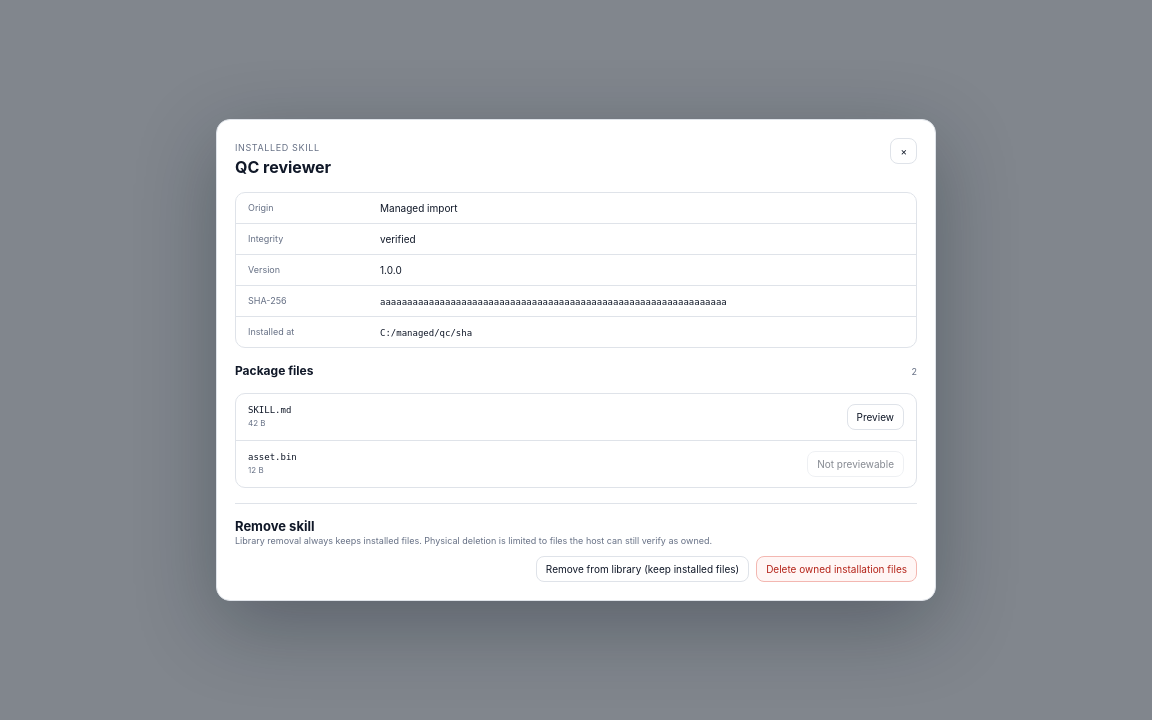
it: SkillDetails › keeps details open and blocks duplicate preview reads after a failure
The width and height of the screenshot is (1152, 720).
Expected: the heading "QC reviewer" is shown, [235,157,331,177]
Step 1. Click the button "Preview" → (875,417), box [846,404,904,430]
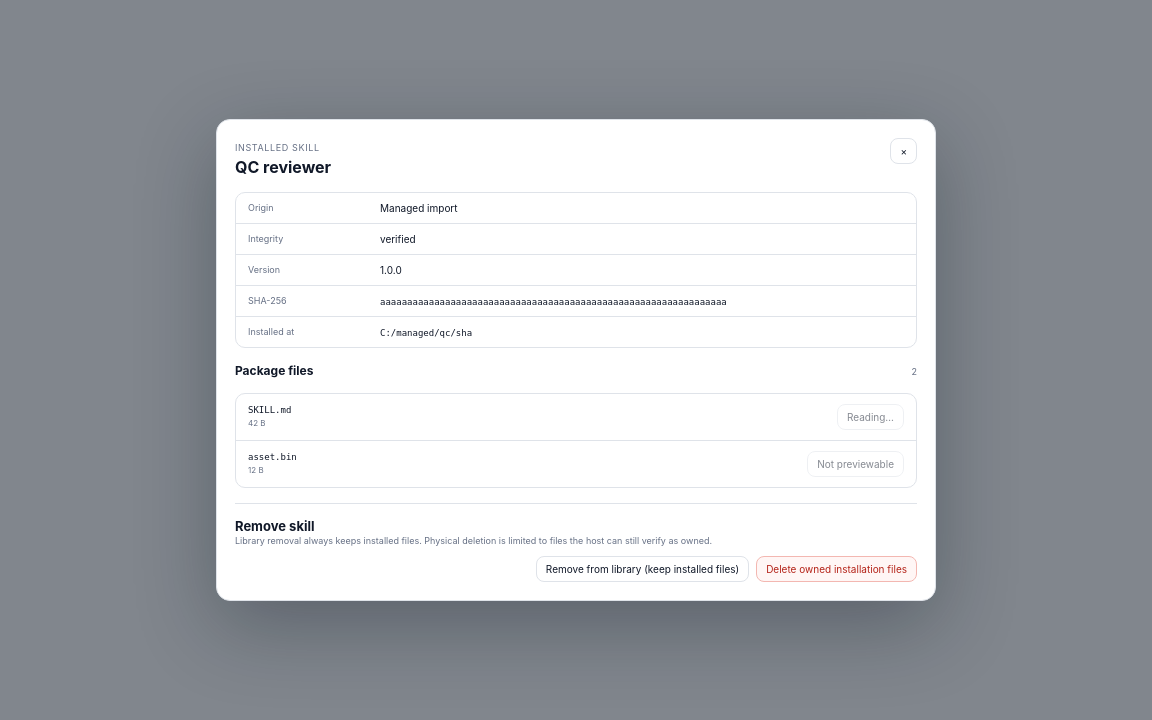
Step 2. Click the button named "Preview" → (870,417), box [837,404,904,430]
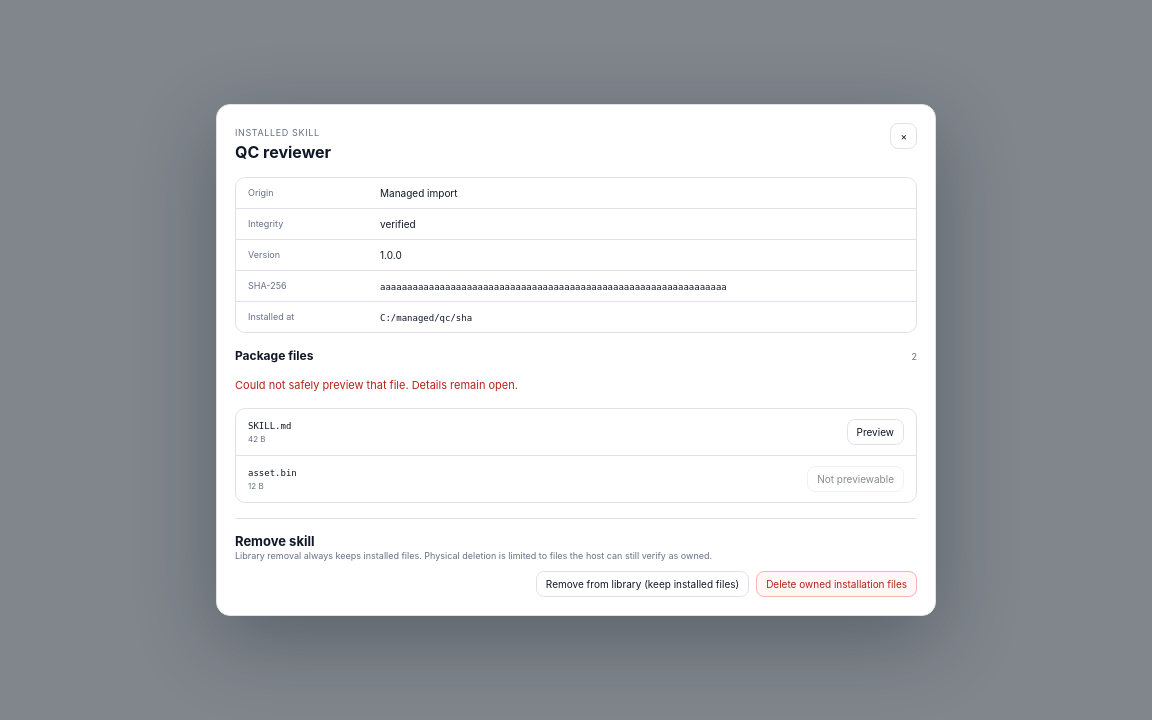
Expected: the dialog named "Skill details" is shown, [216,104,936,616]
Result: the message shows "Could not safely preview" at [235,378,518,392]
